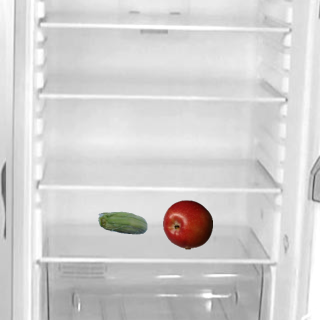Apple Braeburn: (162, 199, 212, 249)
Corn Husk: (97, 199, 147, 249)
